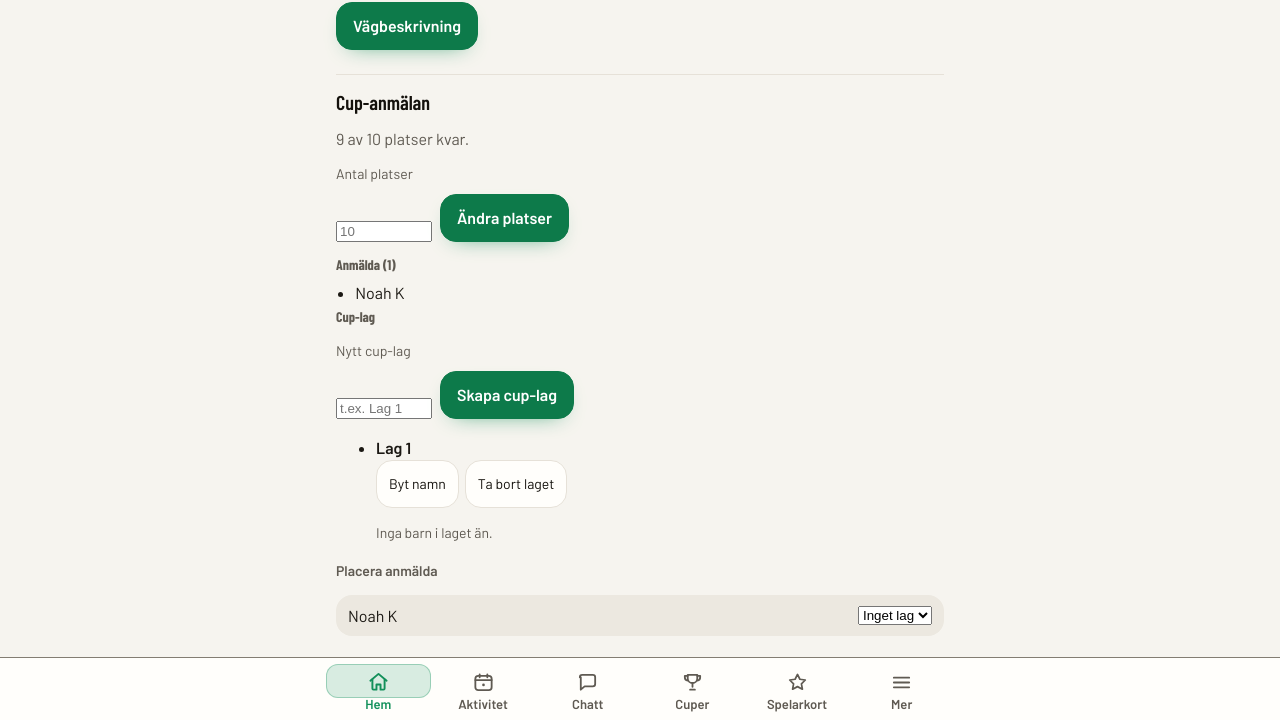
admin placerar anmälda barn i cup-lag (#538) › kvitterar en lyckad placering
The width and height of the screenshot is (1280, 720).
(page scrolled)
Select "Lag 1" in the dropdown labelled "Noah K" at [895, 616], box x1=858 y1=606 x2=932 y2=625
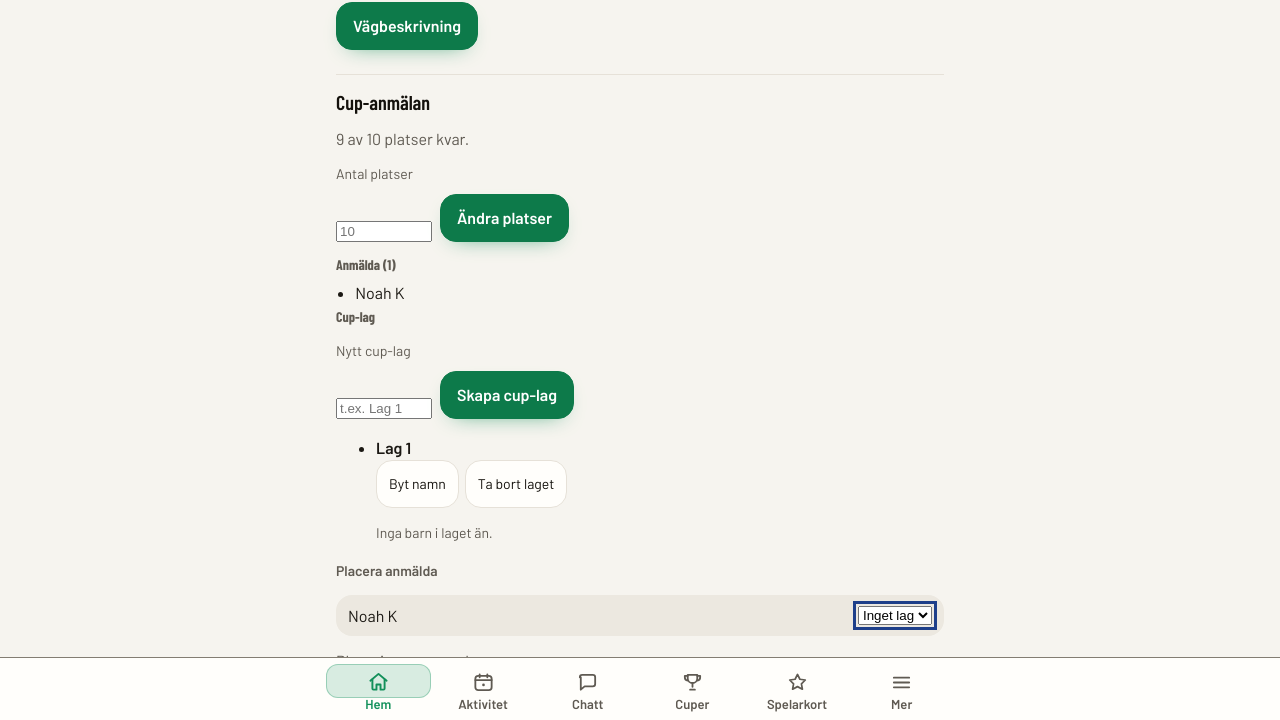
Expected: the text "Placeringen sparades." is shown, x1=336 y1=652 x2=490 y2=670
